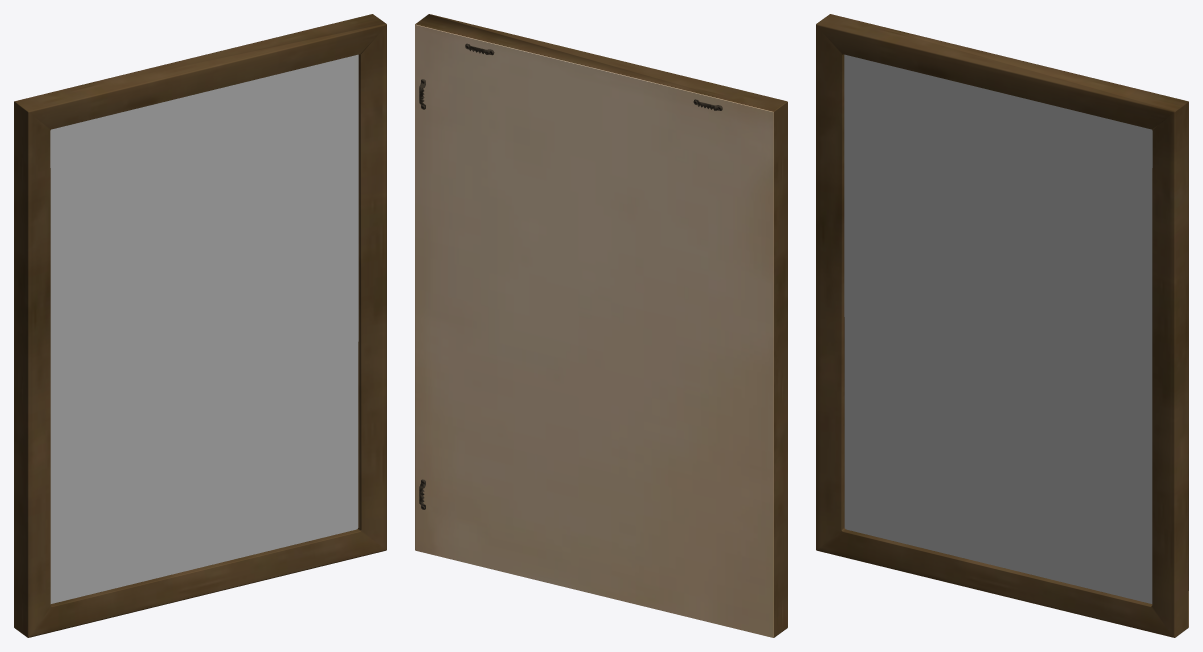
The model's file is mirror.glb.
3 renders of one model, left to right at view 1: azimuth 30°, elevation 25°; view 2: azimuth 150°, elevation 25°; view 3: azimuth 330°, elevation 25°, orthographic.
Visible parts, largest first — view 1: RootNode; view 2: RootNode; view 3: RootNode.
Boxes of the visible parts, x1=… form: RootNode: x1=14, y1=14, x2=386, y2=637; RootNode: x1=415, y1=14, x2=787, y2=637; RootNode: x1=816, y1=14, x2=1188, y2=637.
Size of the model in its own units: 0.5069 by 0.7103 by 0.04.
Materials: 1 (1 with a texture image).
